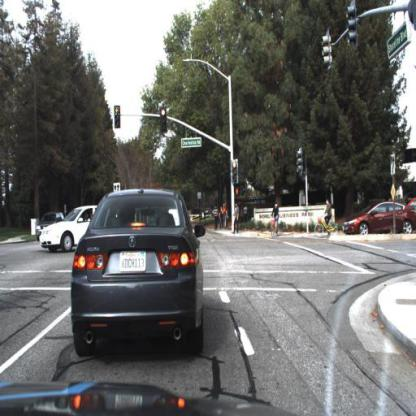biker: (315, 199, 339, 241), (268, 202, 283, 240)
car: (71, 186, 206, 357), (343, 201, 416, 235), (40, 207, 96, 251), (35, 211, 68, 240)
pedestrian: (230, 200, 240, 237), (220, 202, 230, 231), (243, 200, 252, 230), (222, 203, 228, 229), (218, 206, 224, 228), (215, 204, 219, 232)
trafficLight-Red: (232, 159, 239, 182), (161, 108, 167, 133)
trafficLight-RedLeft: (114, 104, 122, 127)
